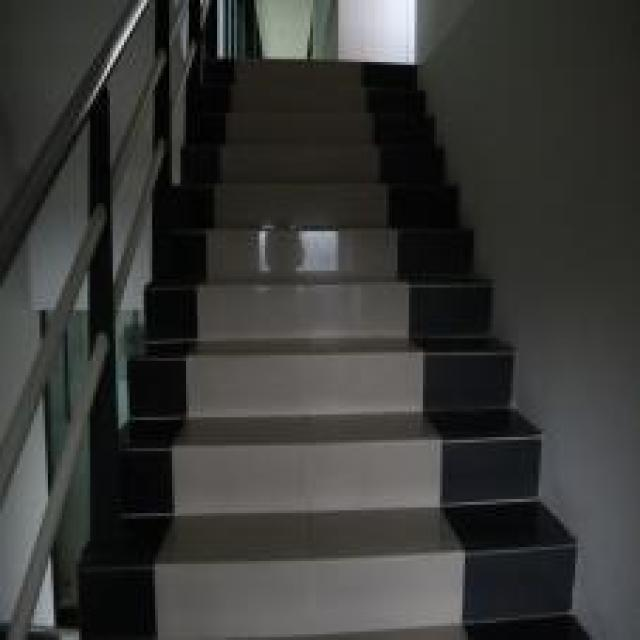upstair: (165, 184, 475, 548)
